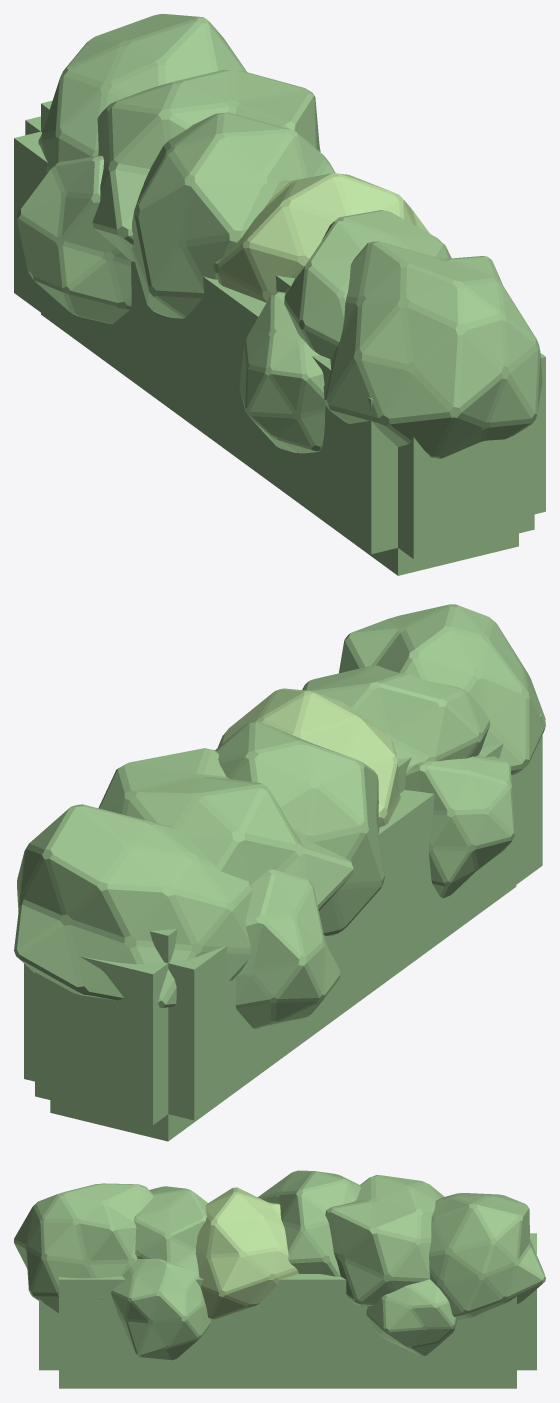
Rendered from Veg_Hedge_A.fbx.
3 views of the same model, one above another, from view 1: azimuth 30°, elevation 25°; view 2: azimuth 150°, elevation 25°; view 3: azimuth 270°, elevation 25° (orthographic). The views are drawn at different scales.
Visible parts, largest first — view 1: Veg_Hedge_A; view 2: Veg_Hedge_A; view 3: Veg_Hedge_A.
Part boxes in pixels (x1,y1,x2,y2): Veg_Hedge_A: (14,14,545,575); Veg_Hedge_A: (14,604,545,1141); Veg_Hedge_A: (14,1170,545,1388).
Bounding box in the file's own units: 0.8395 × 0.8247 × 2.14.
